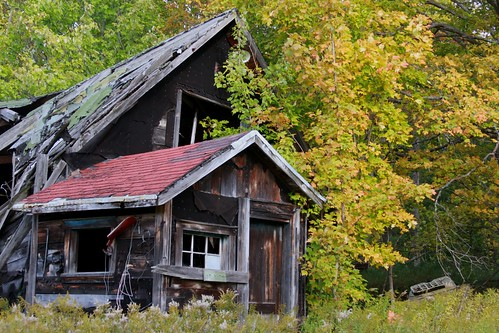building: (1, 18, 304, 326)
vegetation: (281, 1, 499, 310)
